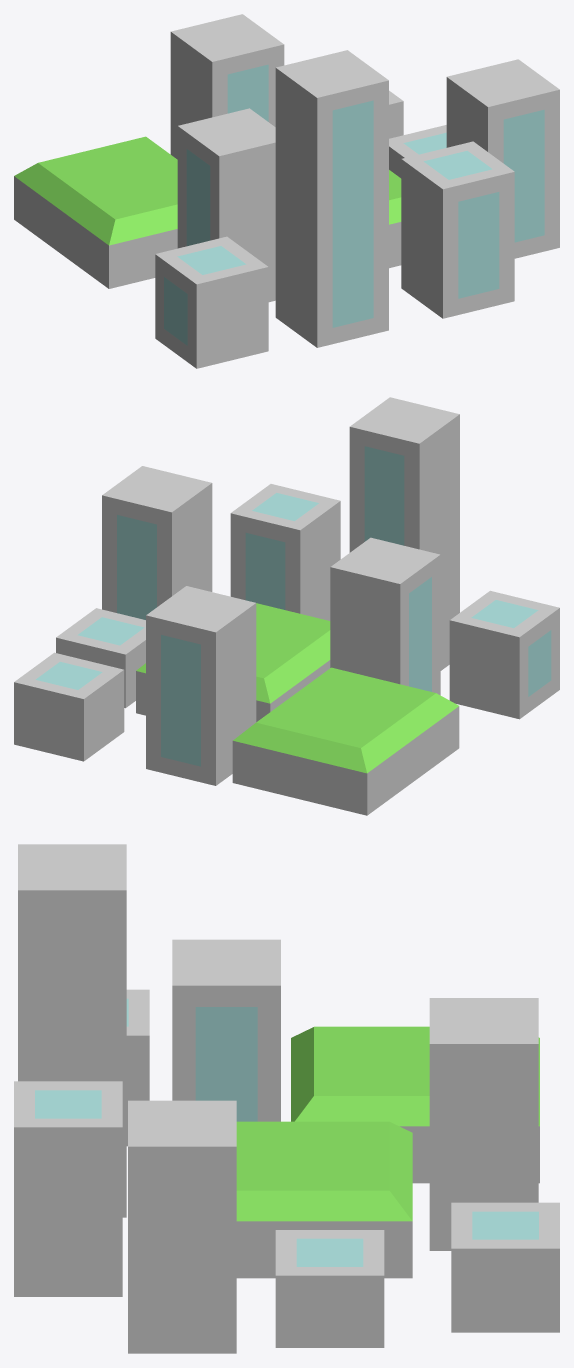
The model's file is housing.fbx.
3 views of the same model, one above another, from view 1: azimuth 30°, elevation 25°; view 2: azimuth 150°, elevation 25°; view 3: azimuth 270°, elevation 25° (orthographic). The views are drawn at different scales.
Visible parts, largest first — view 1: Housing; view 2: Housing; view 3: Housing.
Boxes of the visible parts, bbox=[...] form: Housing: bbox=[14, 14, 559, 368]; Housing: bbox=[14, 397, 559, 815]; Housing: bbox=[14, 844, 559, 1353].
Size of the model in its own units: 608 by 367 by 554.
